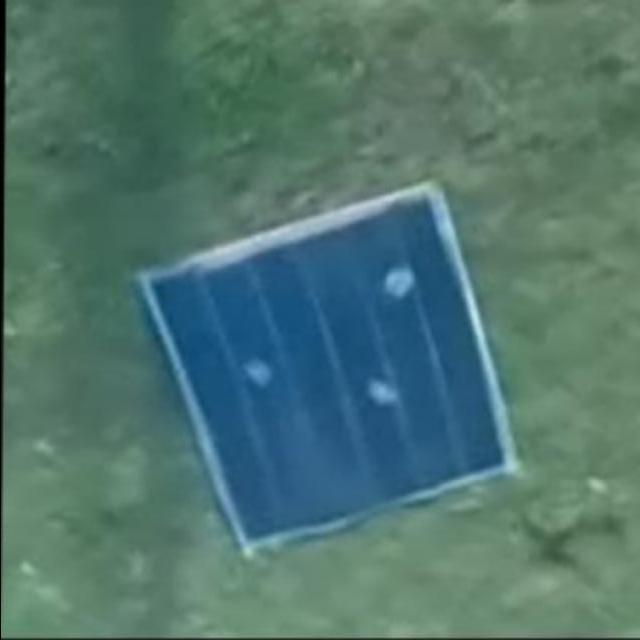soiled: (137, 181, 520, 547)
